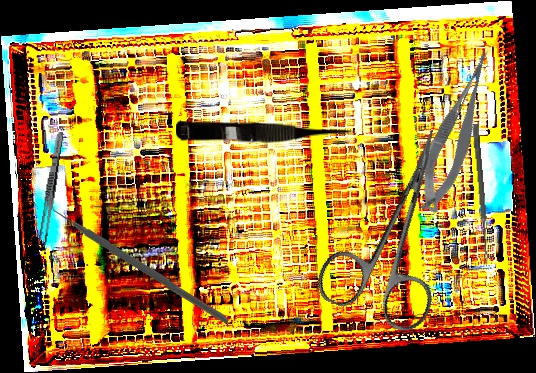Chopper: (46, 191, 231, 323)
Dressing Forceps: (37, 130, 66, 246)
Iris Scissors: (310, 110, 494, 339)
Micro Scissor: (404, 46, 512, 217), (175, 120, 358, 148)
Surgical Spoon: (471, 123, 491, 264)
